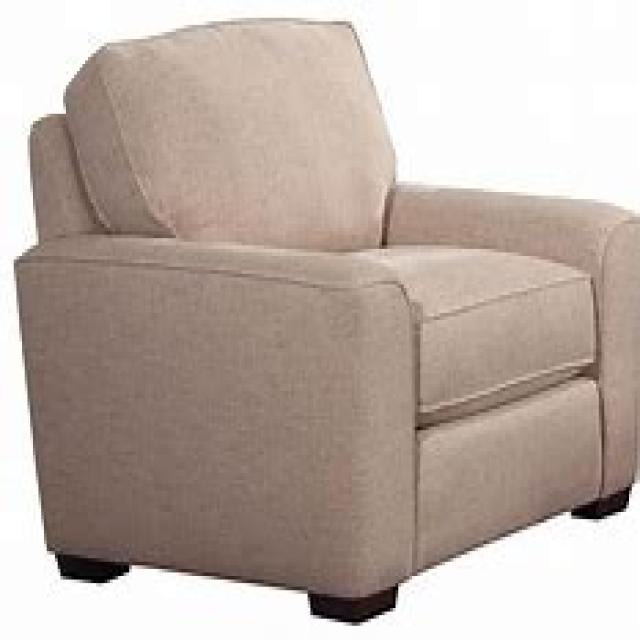chair: (11, 14, 637, 622)
